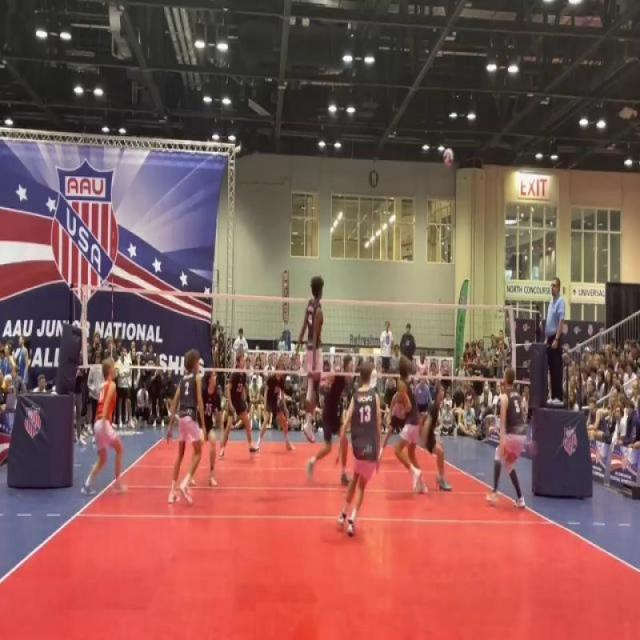volleyball: (442, 145, 456, 169)
